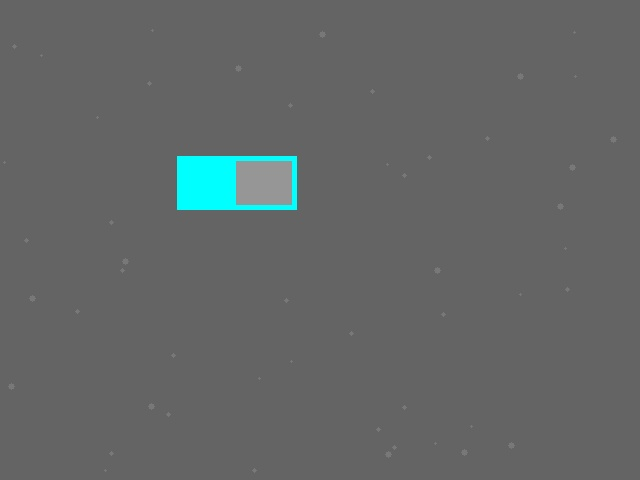truck: (177, 156, 296, 209)
